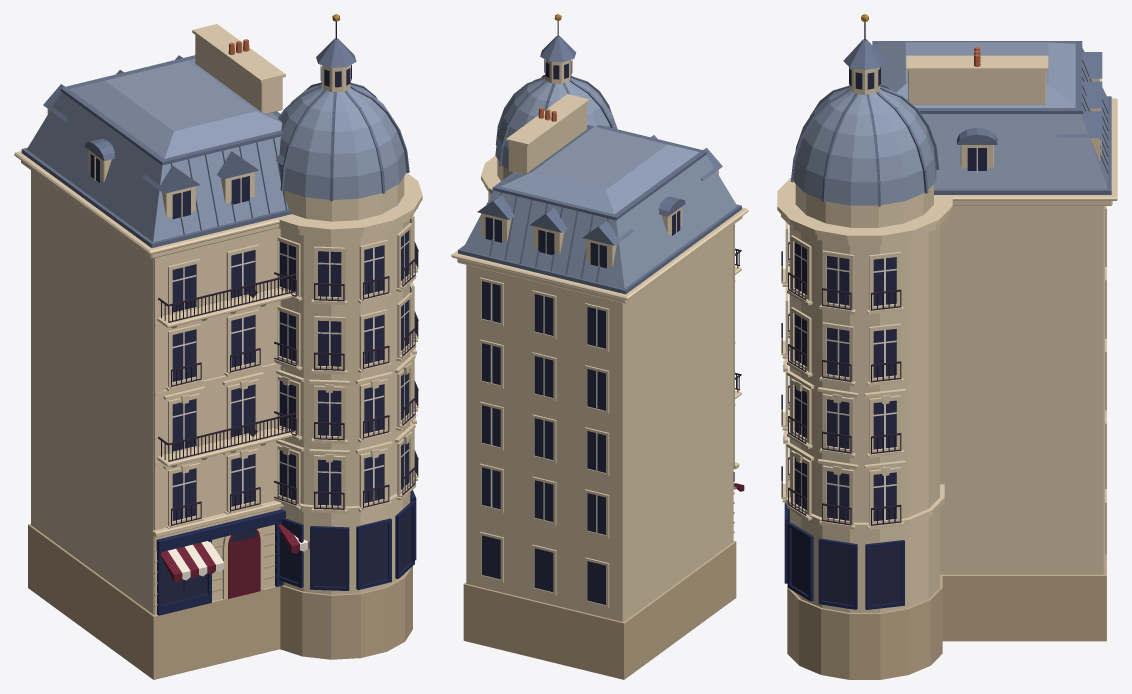
Rendered from paris_rotunda.glb.
The picture shows the model from 3 angles, left to right: view 1: azimuth 30°, elevation 25°; view 2: azimuth 150°, elevation 25°; view 3: azimuth 270°, elevation 25°; orthographic projection. The views are drawn at different scales.
Visible parts, largest first — view 1: paris_rotunda; view 2: paris_rotunda; view 3: paris_rotunda.
Boxes of the visible parts, x1,y1,x2,y2 form: paris_rotunda: [14, 14, 422, 679]; paris_rotunda: [451, 14, 748, 679]; paris_rotunda: [777, 14, 1117, 679].
Size of the model in its own units: 12.78 by 27.36 by 13.33.
